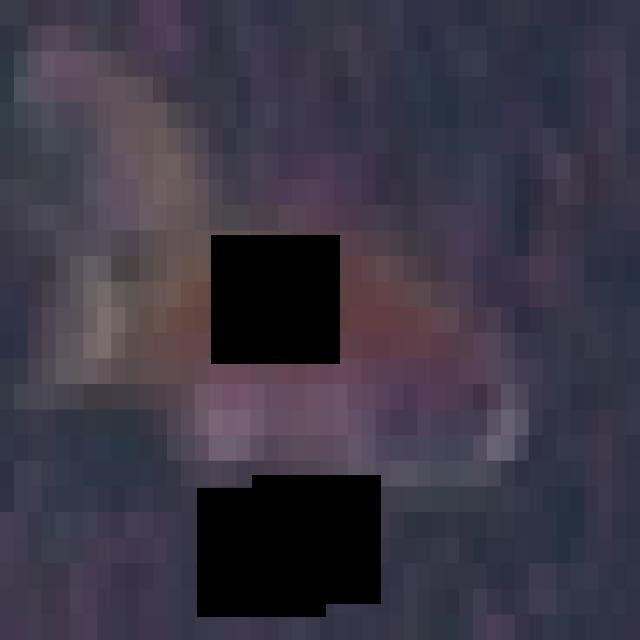fish: (14, 25, 640, 640)
